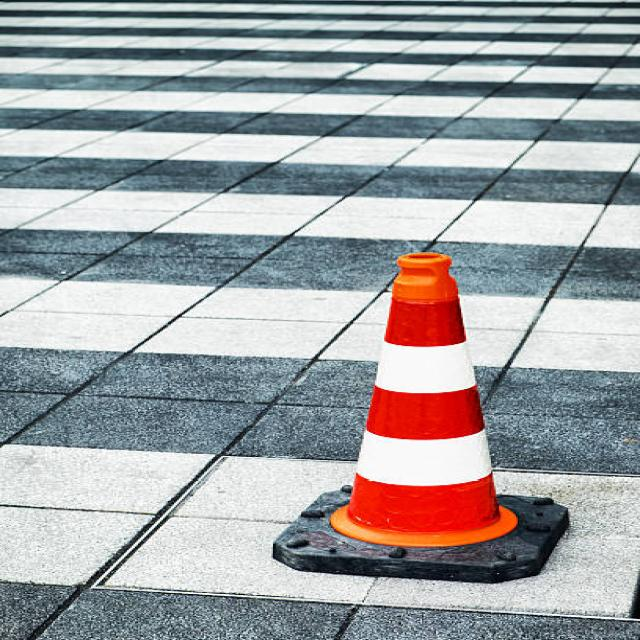Traffic Cone: (267, 228, 596, 594)
